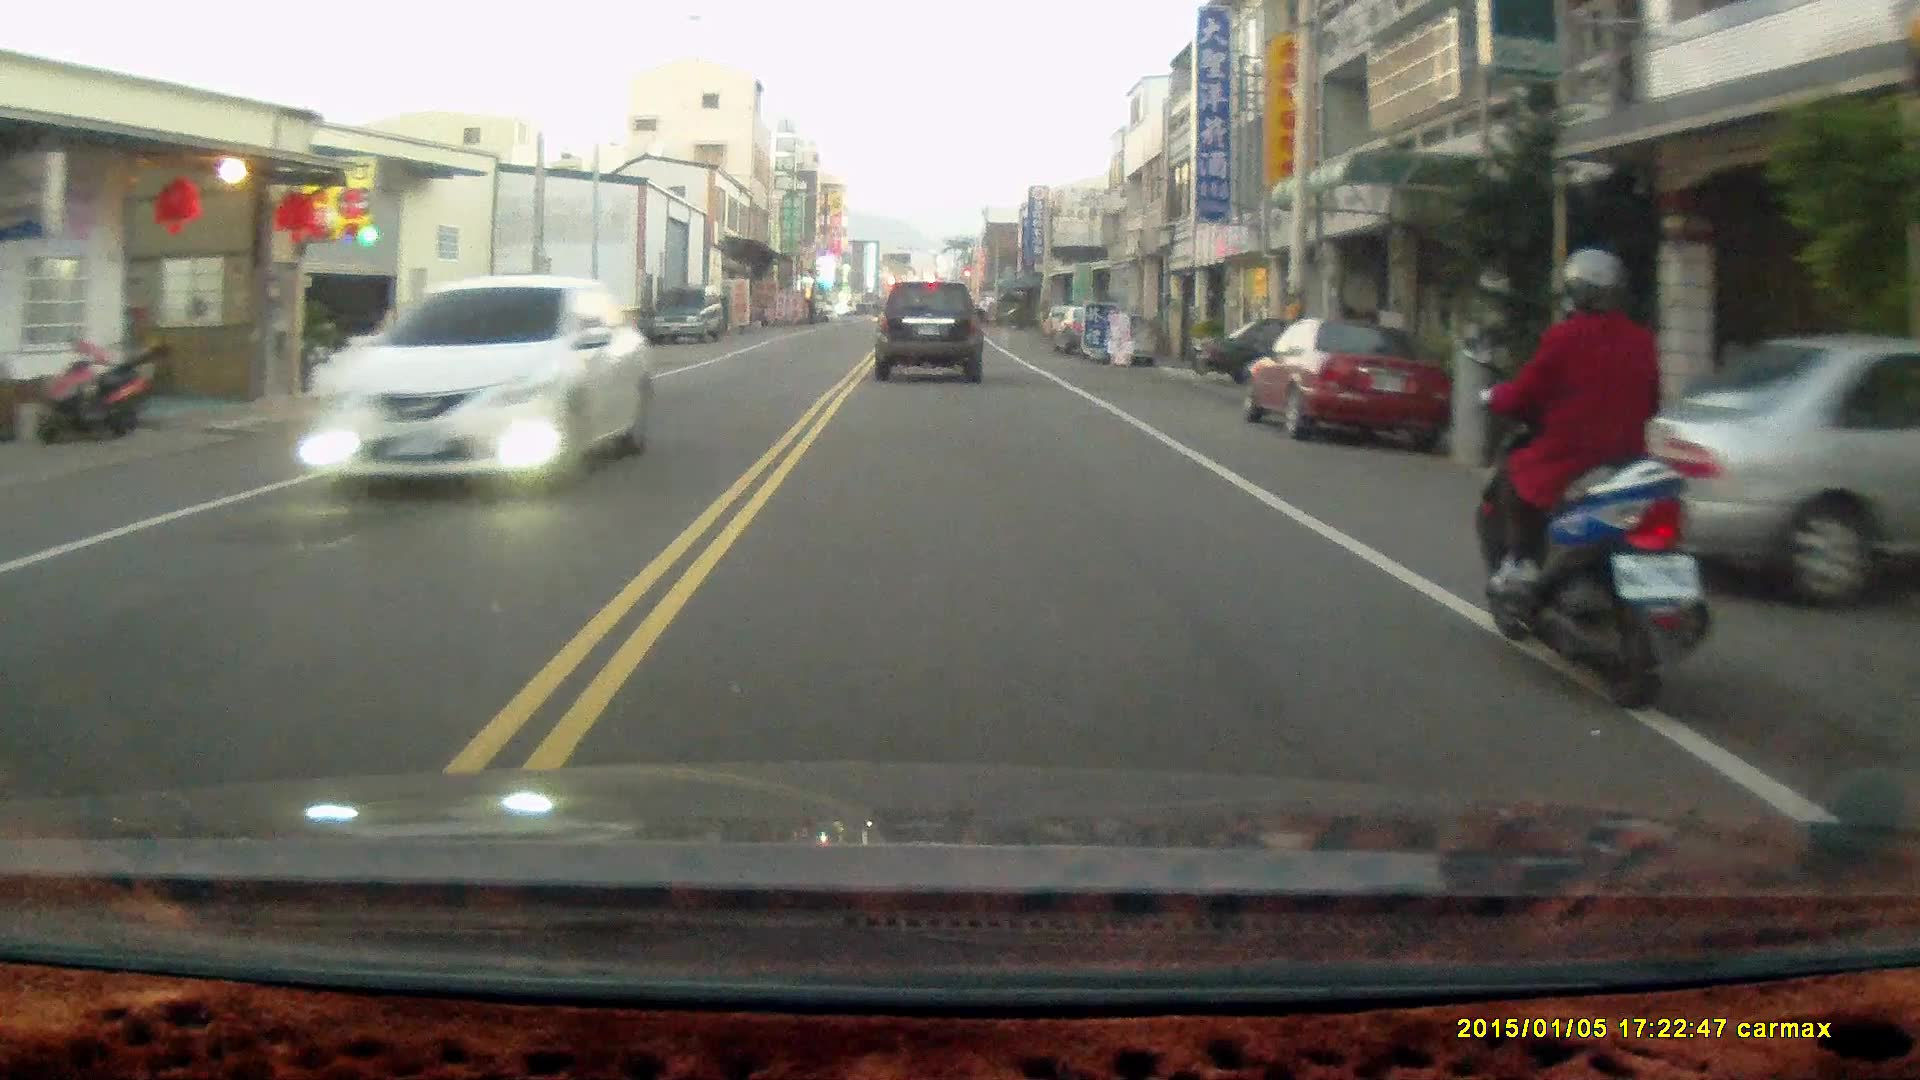rider: (1469, 242, 1721, 721)
vehicle: (1571, 337, 1920, 619), (297, 273, 657, 491), (1242, 310, 1455, 449), (1191, 315, 1394, 382), (877, 275, 987, 382), (655, 285, 726, 344)
